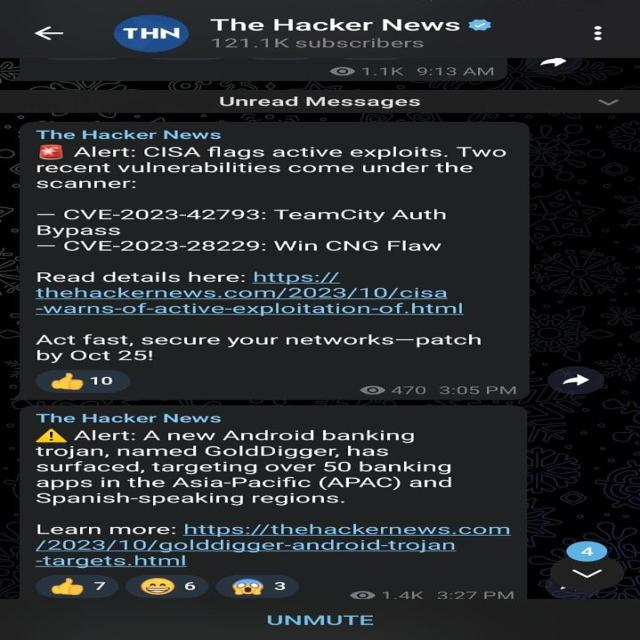Drawer: (550, 541, 628, 591), (36, 368, 130, 394), (218, 575, 299, 599), (38, 574, 118, 598), (129, 575, 209, 599), (550, 367, 602, 394), (530, 58, 576, 71), (36, 26, 66, 41), (594, 97, 624, 108), (592, 24, 602, 42)
EditText: (114, 16, 190, 51), (468, 18, 494, 31)
Icon: (30, 287, 468, 316), (32, 538, 462, 567), (182, 522, 518, 539), (251, 271, 350, 285)
Image: (264, 613, 377, 628)
Modal: (32, 144, 514, 253), (34, 429, 462, 504), (35, 332, 489, 364), (209, 18, 462, 34), (211, 36, 426, 50), (37, 271, 248, 285), (356, 383, 524, 399), (217, 96, 429, 108), (328, 64, 498, 78), (35, 522, 179, 538), (350, 588, 518, 600)
